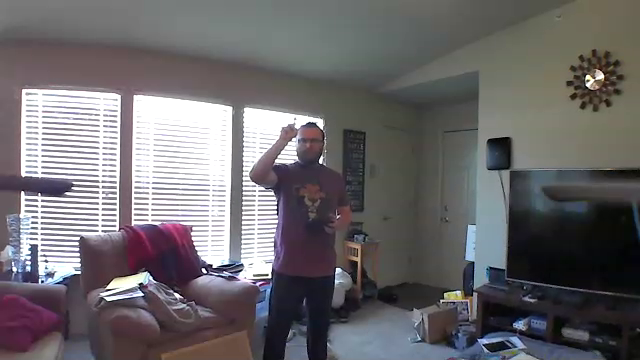up: (276, 112, 300, 144)
